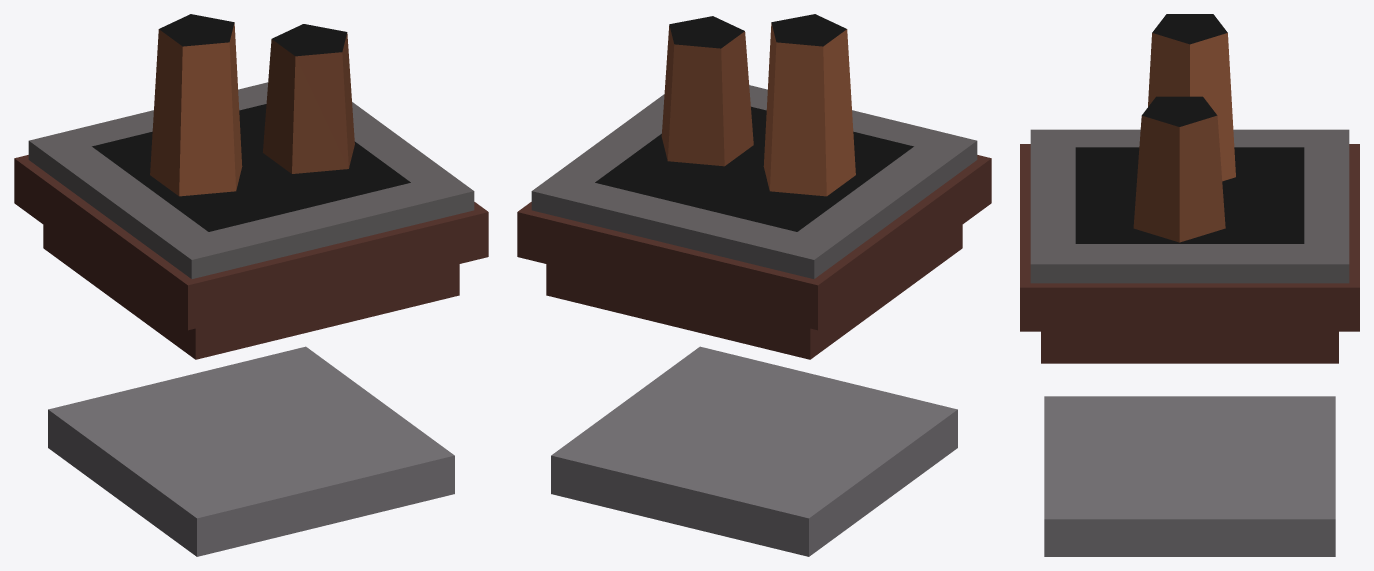
The model's file is chimney-crown.glb.
3 renders of one model, left to right at view 1: azimuth 30°, elevation 25°; view 2: azimuth 150°, elevation 25°; view 3: azimuth 270°, elevation 25°, orthographic. The views are drawn at different scales.
Visible parts, largest first — view 1: chimney-crown; view 2: chimney-crown; view 3: chimney-crown.
Part boxes in pixels (left/top/right/bottom): chimney-crown: left=14, top=14, right=488, bottom=556; chimney-crown: left=517, top=14, right=991, bottom=556; chimney-crown: left=1020, top=14, right=1359, bottom=556.
Bounding box in the file's own units: 0.98 × 1.41 × 0.98.
